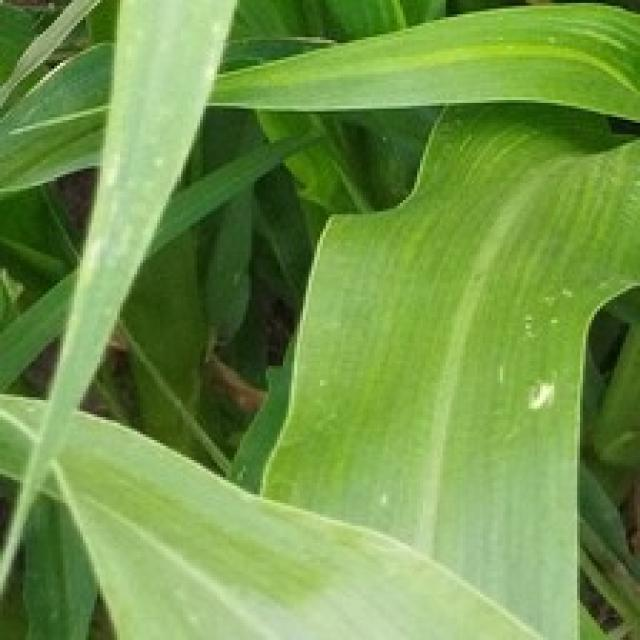Corn: (0, 0, 637, 637), (203, 0, 637, 126)
